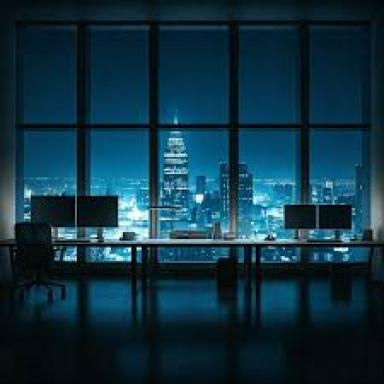glass_panel: (158, 132, 228, 238), (159, 27, 230, 123), (87, 131, 150, 239), (238, 131, 300, 239), (309, 131, 370, 239), (87, 25, 150, 123), (239, 25, 300, 123), (309, 25, 370, 123), (22, 132, 77, 238), (19, 24, 77, 123)
